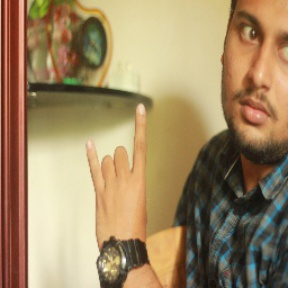V: (83, 102, 160, 248)
